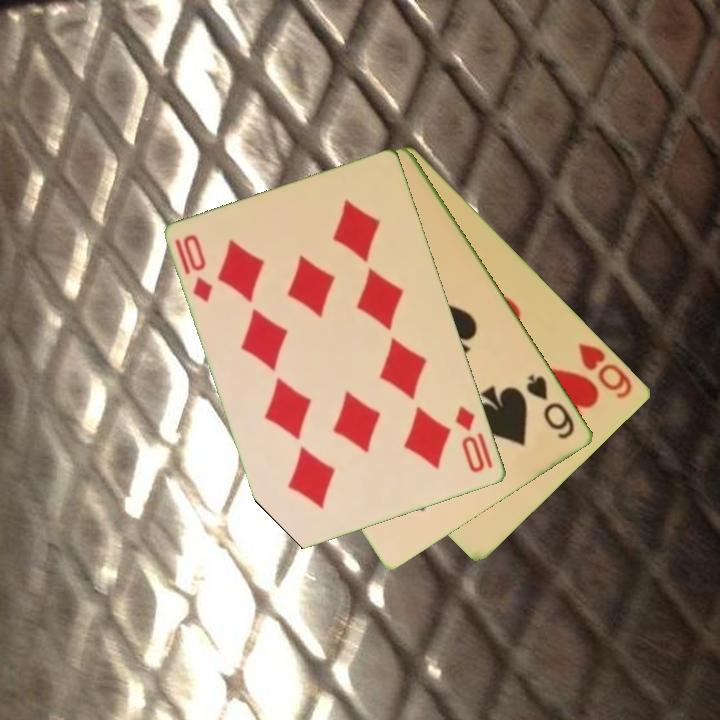10d: (171, 230, 216, 305), (452, 402, 488, 476)
6h: (575, 339, 636, 402)
6s: (523, 370, 578, 443)
